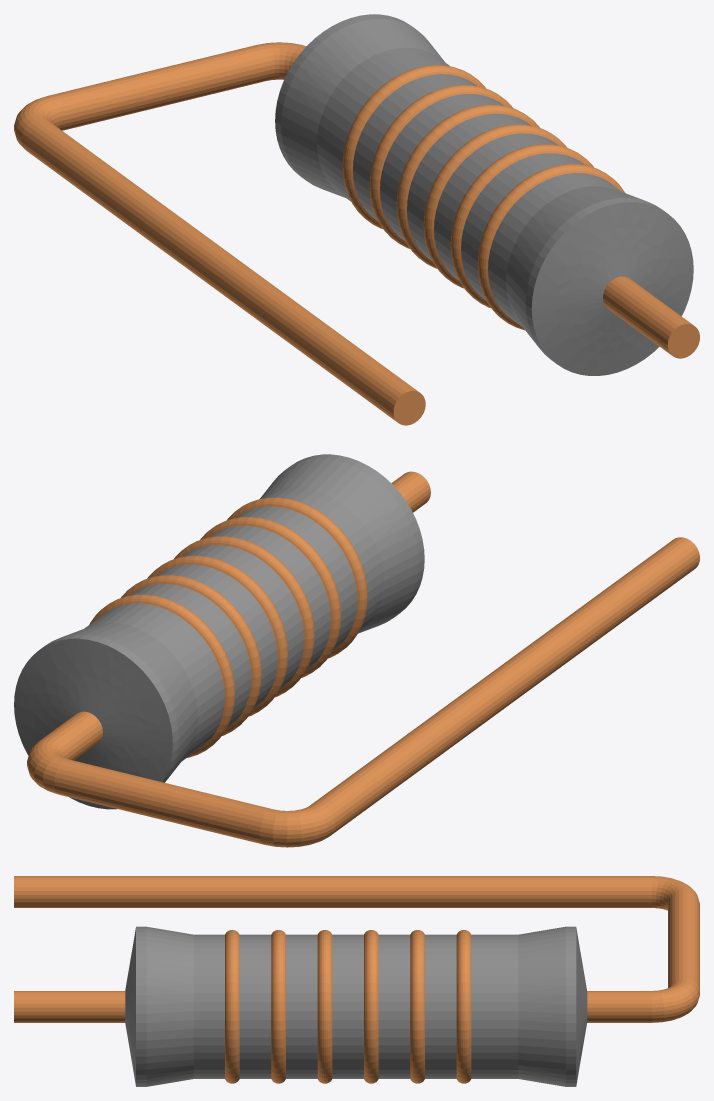
Rendered from L_Axial_L13.0mm_D4.5mm_P7.62mm_Vertical_Fastron_HCCC.glb.
3 renders of one model, top to bottom at view 1: azimuth 30°, elevation 25°; view 2: azimuth 150°, elevation 25°; view 3: azimuth 270°, elevation 25°, orthographic. The views are drawn at different scales.
Visible parts, largest first — view 1: Shape_IndexedFaceSet.002, Shape_IndexedFaceSet.025, Shape_IndexedFaceSet.018, Shape_IndexedFaceSet.023, Shape_IndexedFaceSet.017, Shape_IndexedFaceSet.004, Shape_IndexedFaceSet.005, Shape_IndexedFaceSet.009, Shape_IndexedFaceSet.015, Shape_IndexedFaceSet.011, Shape_IndexedFaceSet.007, Shape_IndexedFaceSet.013 (+13 smaller); view 2: Shape_IndexedFaceSet.025, Shape_IndexedFaceSet.020, Shape_IndexedFaceSet.004, Shape_IndexedFaceSet.023, Shape_IndexedFaceSet.017, Shape_IndexedFaceSet.018, Shape_IndexedFaceSet.007, Shape_IndexedFaceSet.011, Shape_IndexedFaceSet.013, Shape_IndexedFaceSet.009, Shape_IndexedFaceSet.015, Shape_IndexedFaceSet.005 (+12 smaller); view 3: Shape_IndexedFaceSet.025, Shape_IndexedFaceSet.018, Shape_IndexedFaceSet.004, Shape_IndexedFaceSet.017, Shape_IndexedFaceSet.007, Shape_IndexedFaceSet.013, Shape_IndexedFaceSet.009, Shape_IndexedFaceSet.011, Shape_IndexedFaceSet.015, Shape_IndexedFaceSet.005, Shape_IndexedFaceSet.001, Shape_IndexedFaceSet.023 (+13 smaller).
Part boxes in pixels (x1,y1,x2,y2): Shape_IndexedFaceSet.002: [531, 202, 693, 375]; Shape_IndexedFaceSet.025: [21, 118, 419, 422]; Shape_IndexedFaceSet.018: [281, 18, 444, 197]; Shape_IndexedFaceSet.023: [48, 45, 269, 130]; Shape_IndexedFaceSet.017: [317, 47, 449, 201]; Shape_IndexedFaceSet.004: [506, 186, 645, 345]; Shape_IndexedFaceSet.005: [488, 173, 621, 327]; Shape_IndexedFaceSet.009: [434, 133, 558, 280]; Shape_IndexedFaceSet.015: [353, 74, 477, 221]; Shape_IndexedFaceSet.011: [407, 113, 531, 260]; Shape_IndexedFaceSet.007: [461, 153, 585, 300]; Shape_IndexedFaceSet.013: [380, 94, 504, 240]; Shape_IndexedFaceSet.025: [310, 537, 699, 835]; Shape_IndexedFaceSet.020: [14, 638, 172, 809]; Shape_IndexedFaceSet.004: [260, 458, 418, 633]; Shape_IndexedFaceSet.023: [54, 759, 272, 844]; Shape_IndexedFaceSet.017: [84, 603, 224, 760]; Shape_IndexedFaceSet.018: [62, 623, 197, 779]; Shape_IndexedFaceSet.007: [235, 506, 357, 650]; Shape_IndexedFaceSet.011: [182, 545, 304, 689]; Shape_IndexedFaceSet.013: [156, 564, 277, 708]; Shape_IndexedFaceSet.009: [209, 525, 330, 670]; Shape_IndexedFaceSet.015: [129, 584, 251, 728]; Shape_IndexedFaceSet.005: [262, 487, 383, 631]; Shape_IndexedFaceSet.025: [14, 876, 651, 907]; Shape_IndexedFaceSet.018: [518, 926, 565, 1086]; Shape_IndexedFaceSet.004: [146, 927, 193, 1086]; Shape_IndexedFaceSet.017: [471, 934, 518, 1078]; Shape_IndexedFaceSet.007: [239, 934, 271, 1078]; Shape_IndexedFaceSet.013: [378, 934, 410, 1078]; Shape_IndexedFaceSet.009: [286, 934, 317, 1078]; Shape_IndexedFaceSet.011: [332, 934, 363, 1078]; Shape_IndexedFaceSet.015: [425, 934, 456, 1078]; Shape_IndexedFaceSet.005: [194, 934, 224, 1078]; Shape_IndexedFaceSet.001: [14, 991, 125, 1022]; Shape_IndexedFaceSet.023: [668, 891, 699, 990].
Size of the model in its own units: 4.06 by 1.77 by 7.58.
